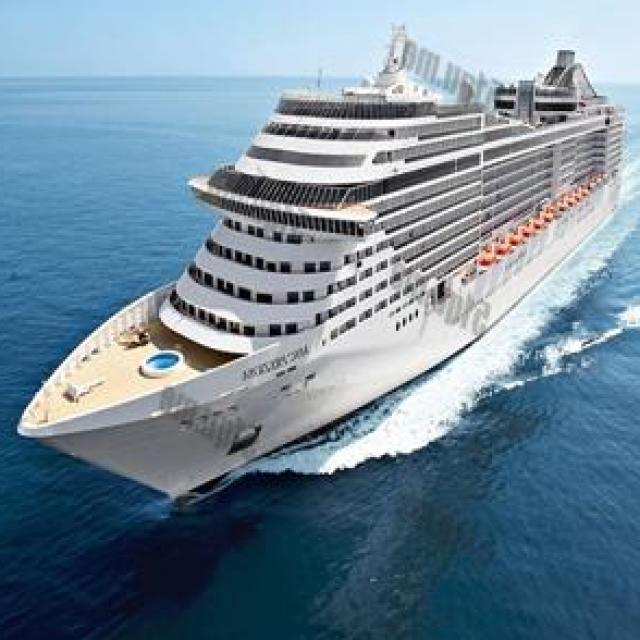passenger ship: (17, 16, 627, 498)
